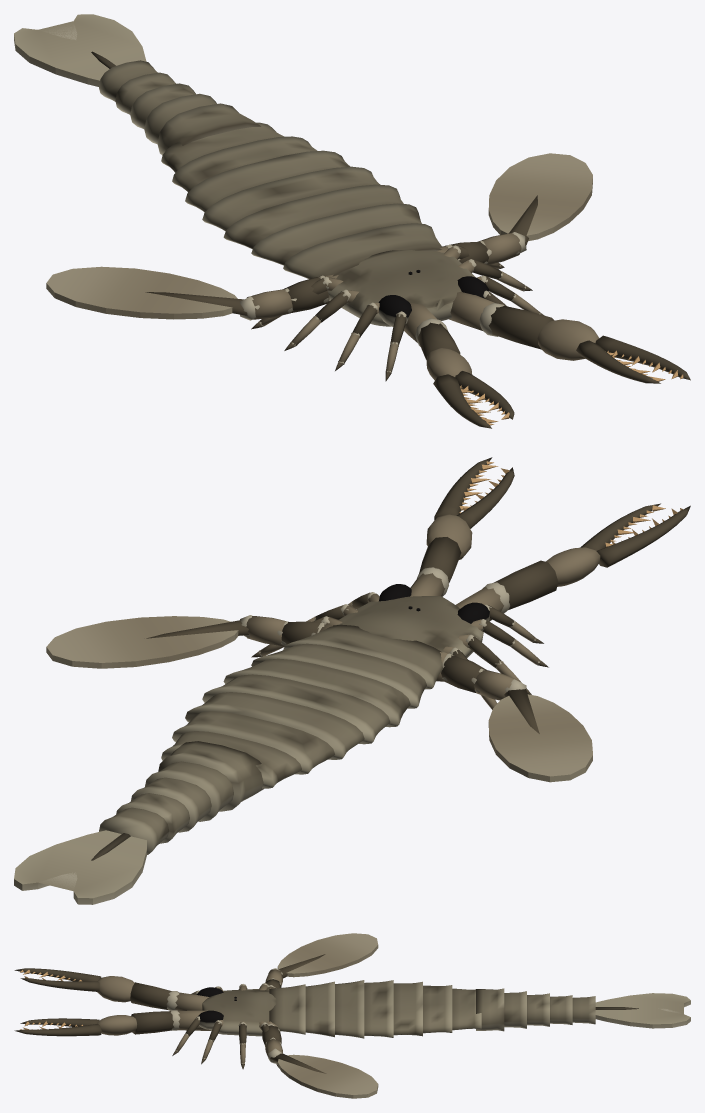
The model's file is ErettopterusBilobus.fbx.
The picture shows the model from 3 angles, top to bottom: view 1: azimuth 30°, elevation 25°; view 2: azimuth 150°, elevation 25°; view 3: azimuth 270°, elevation 25°; orthographic projection. The views are drawn at different scales.
Parts seen in each view (by area): view 1: ErettopterusBilobus; view 2: ErettopterusBilobus; view 3: ErettopterusBilobus.
Part boxes in pixels (x1=…): ErettopterusBilobus: x1=14, y1=14, x2=690, y2=428; ErettopterusBilobus: x1=14, y1=457, x2=690, y2=904; ErettopterusBilobus: x1=14, y1=933, x2=690, y2=1098.
Size of the model in its own units: 1.34 by 0.1477 by 2.38.
